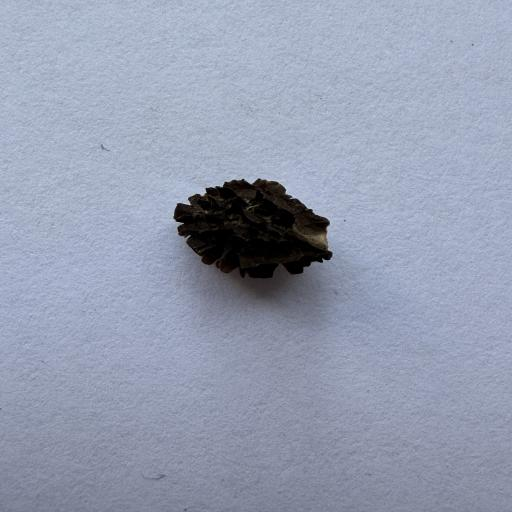papaya_seed: (169, 182, 366, 297)
